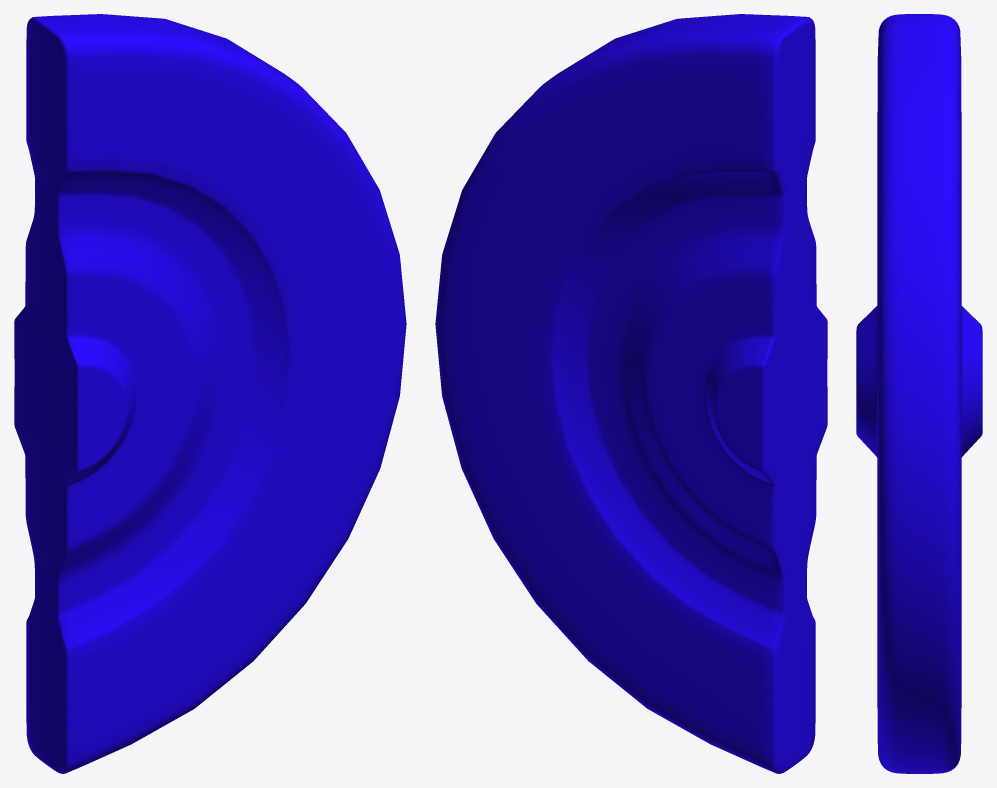
The model's file is circular_low.fbx.
3 views of the same model, side by side, from view 1: azimuth 30°, elevation 25°; view 2: azimuth 150°, elevation 25°; view 3: azimuth 270°, elevation 25° (orthographic).
Parts seen in each view (by area): view 1: circular_low; view 2: circular_low; view 3: circular_low.
Boxes of the visible parts, left/top/right/bottom form: circular_low: left=14, top=14, right=406, bottom=773; circular_low: left=435, top=14, right=827, bottom=773; circular_low: left=856, top=14, right=982, bottom=773.
Bounding box in the file's own units: 32.48 × 66.01 × 10.34.
